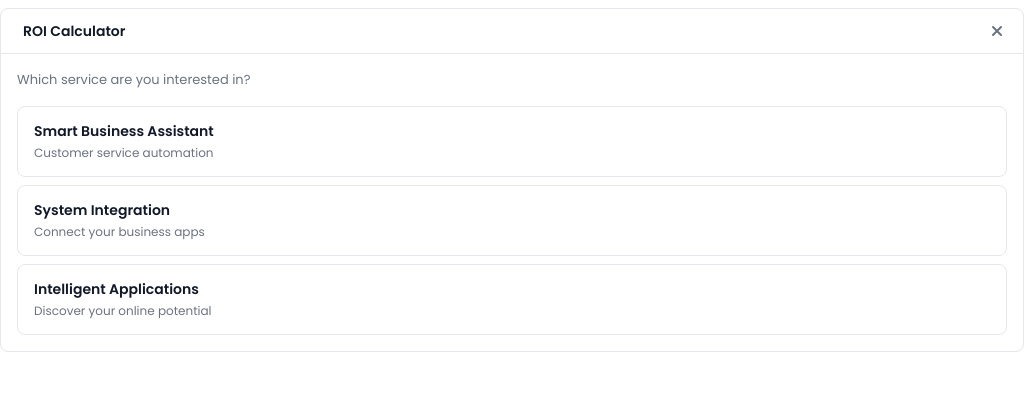
Test: ROICalculatorForm › Rendering › should render form fields after selecting service
Click the button "Smart Business Assistant Customer service automation". click: (124, 130)
box: [17,106,1007,176]
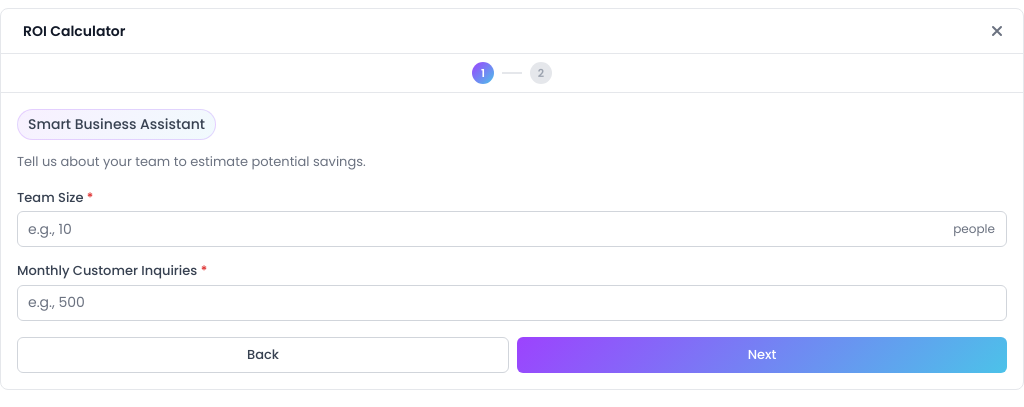
Check: the number field labelled "Team Size" is shown, box [17,211,1007,247]
Check: the number field labelled "Monthly Customer Inquiries" is shown, box [17,284,1007,320]
Check: the button "Next" is shown, box [517,336,1007,372]
